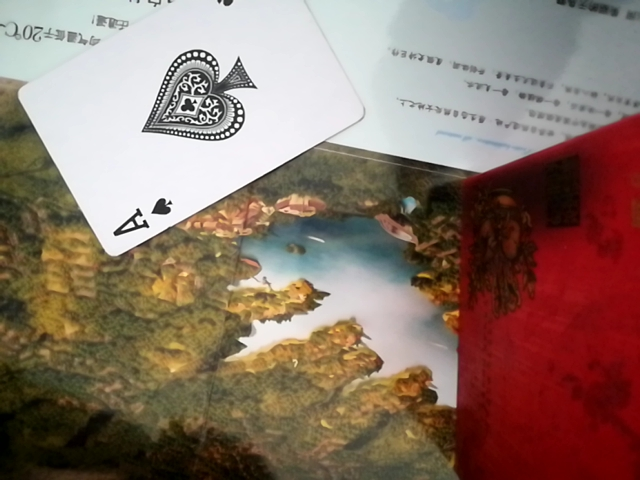ht a: (4, 1, 367, 255)
